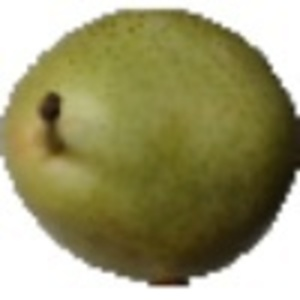pera: (1, 3, 300, 290)
